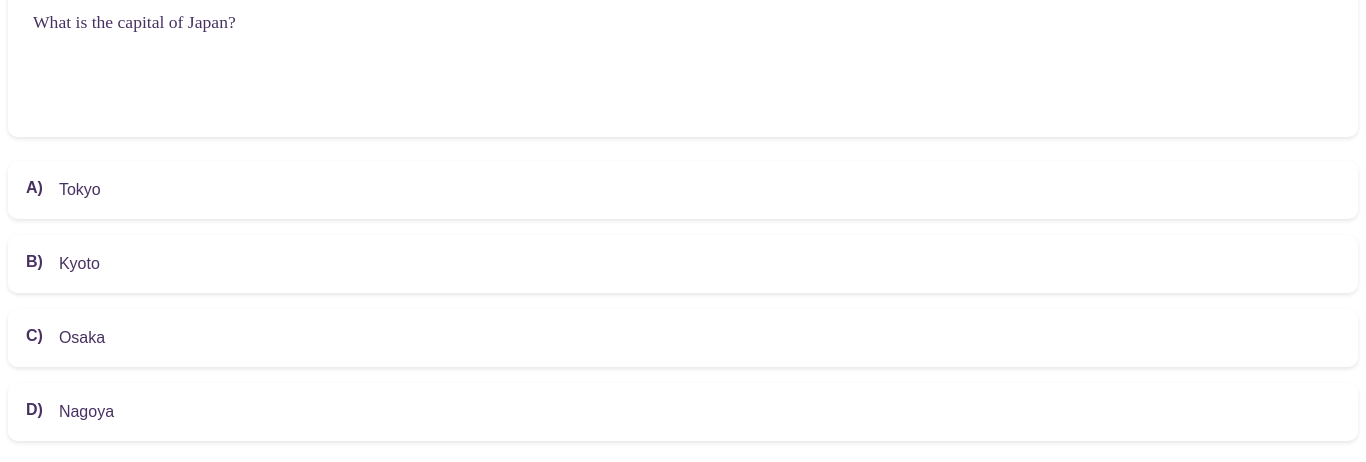
it: Question Component › handles incorrect answer selection
Click incorrect answer
Click the text "Kyoto": click(79, 264) [59, 255, 100, 272]
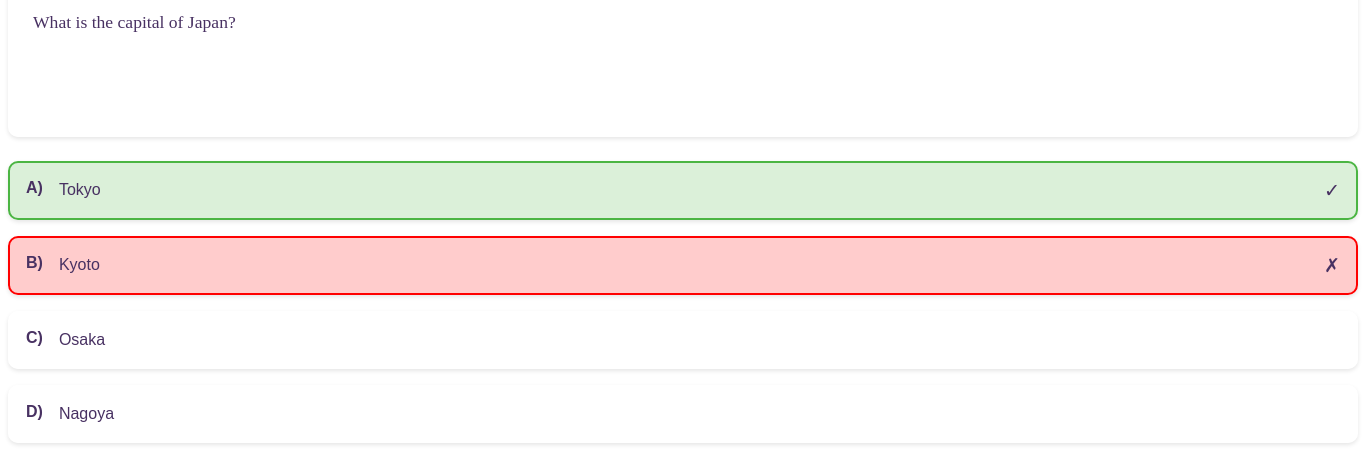
expect the icon "✗" is shown: met, box [1324, 254, 1340, 277]
